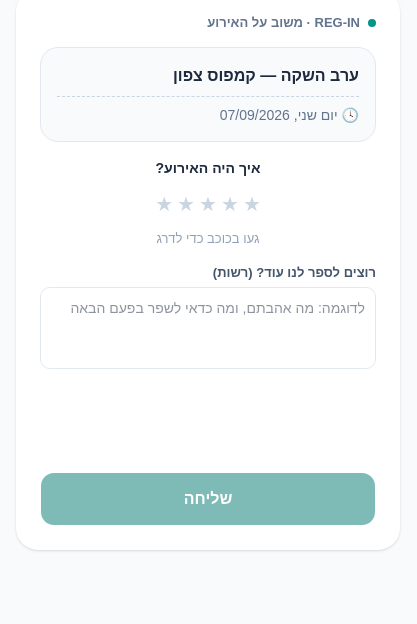
PublicFeedbackPage — הגשה › תשובת "invalid" — נשארים בטופס עם שגיאה מקומית, לא "נשמר" מזויף
Click the 5th button "★" at (252, 204), box [243,194,261,214]
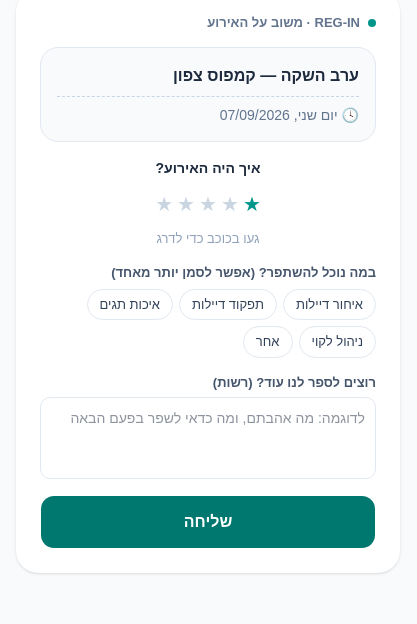
Click the button with test id "feedback-submit" at (208, 522), box [40,495,376,549]
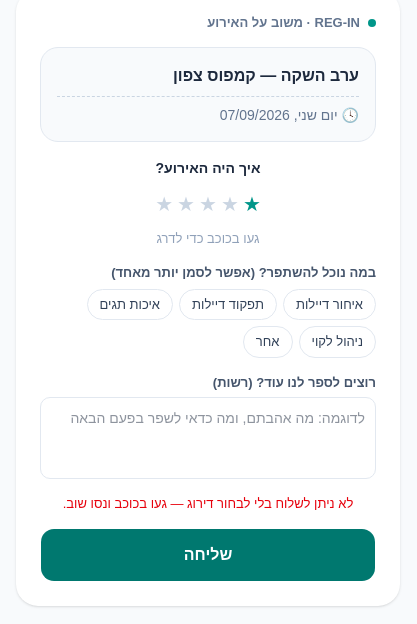
Expected: the text "לא ניתן לשלוח בלי לבחור דירוג — געו בכוכב ונסו שוב." is shown, [40,495,376,512]
